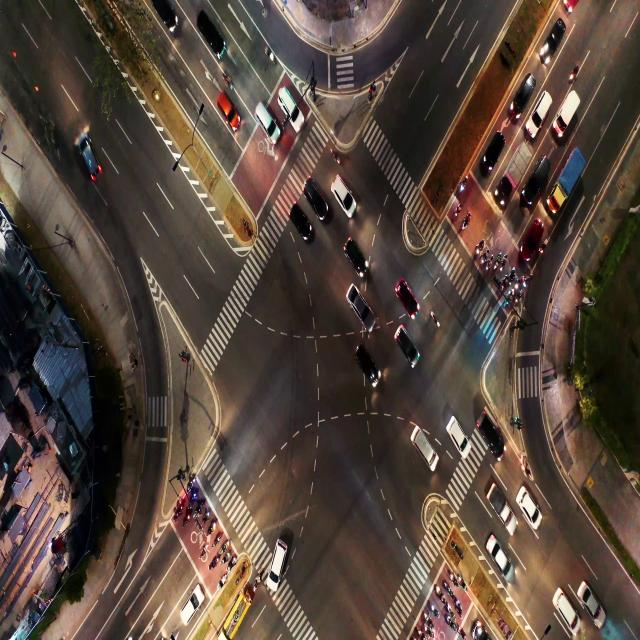bus: (228, 601, 245, 633)
car: (76, 128, 99, 189), (180, 583, 202, 629), (199, 14, 222, 56), (579, 578, 603, 618), (356, 338, 374, 382), (411, 427, 434, 461), (282, 91, 302, 128), (478, 416, 502, 446), (448, 417, 469, 451), (489, 542, 511, 572), (514, 75, 533, 109), (332, 172, 349, 209), (399, 329, 418, 362), (481, 132, 500, 164), (266, 542, 286, 572), (401, 279, 417, 316), (287, 205, 308, 232), (307, 181, 325, 211), (348, 291, 368, 317), (544, 23, 562, 51), (256, 106, 272, 137), (555, 590, 573, 617), (522, 224, 537, 255), (221, 94, 234, 128), (532, 163, 546, 194), (520, 488, 535, 516), (533, 97, 549, 123), (347, 240, 365, 262), (158, 6, 176, 26)
motorcycle: (265, 46, 276, 64), (222, 72, 233, 89), (429, 600, 440, 617), (431, 310, 441, 328), (570, 66, 580, 81), (424, 611, 433, 626), (176, 503, 184, 519), (218, 573, 226, 589), (436, 586, 444, 602), (199, 540, 206, 558), (213, 530, 221, 544), (460, 177, 468, 191), (457, 602, 464, 618), (416, 626, 424, 640), (332, 148, 339, 163), (443, 580, 451, 593), (460, 627, 468, 640), (425, 627, 434, 638), (462, 213, 469, 227), (508, 268, 515, 282), (252, 577, 260, 589), (460, 578, 468, 590), (227, 561, 234, 573), (502, 255, 508, 269), (448, 620, 456, 630), (506, 290, 512, 303), (208, 523, 215, 534), (482, 250, 487, 265), (448, 602, 453, 617), (487, 258, 492, 272), (501, 276, 506, 290), (188, 476, 194, 487), (454, 205, 460, 216), (524, 274, 530, 285), (212, 555, 217, 568), (477, 241, 482, 254), (495, 255, 500, 268), (196, 505, 202, 515), (220, 542, 225, 554), (451, 576, 457, 586), (516, 293, 521, 304), (202, 514, 208, 523), (186, 510, 190, 523), (540, 240, 544, 252), (223, 555, 228, 564), (192, 493, 196, 504), (516, 278, 520, 289)
truck: (560, 161, 577, 200), (507, 153, 524, 184), (561, 94, 575, 130), (492, 488, 503, 516)
